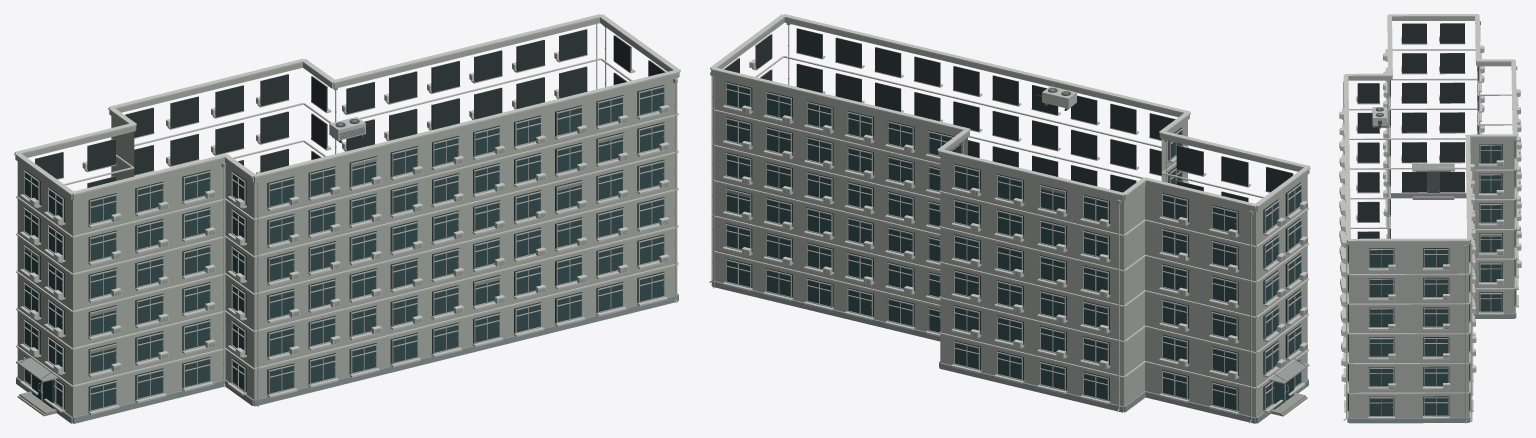
The model's file is osm_way_223859840.glb.
3 views of the same model, side by side, from view 1: azimuth 30°, elevation 25°; view 2: azimuth 150°, elevation 25°; view 3: azimuth 270°, elevation 25° (orthographic). The views are drawn at different scales.
Visible parts, largest first — view 1: Windows and facade details | 18, Architecture | 18, Roof services | 18, EXTERIOR::osm_way_223859840::rainwater and roof service deta, EXTERIOR::osm_way_223859840::inferred entry doors canopy and, EXTERIOR::osm_way_223859840::native pane seals and hardware; view 2: Architecture | 18, Windows and facade details | 18, Roof services | 18, EXTERIOR::osm_way_223859840::rainwater and roof service deta, EXTERIOR::osm_way_223859840::inferred entry doors canopy and; view 3: Windows and facade details | 18, Architecture | 18, Roof services | 18, EXTERIOR::osm_way_223859840::rainwater and roof service deta, EXTERIOR::osm_way_223859840::inferred entry doors canopy and.
Part boxes in pixels (x1,y1,x2,y2): Windows and facade details | 18: [20, 24, 669, 414]; Architecture | 18: [15, 18, 679, 423]; Roof services | 18: [14, 14, 680, 195]; EXTERIOR::osm_way_223859840::rainwater and roof service deta: [221, 25, 677, 387]; EXTERIOR::osm_way_223859840::inferred entry doors canopy and: [16, 355, 58, 416]; EXTERIOR::osm_way_223859840::native pane seals and hardware: [24, 98, 663, 397]; Architecture | 18: [711, 18, 1309, 423]; Windows and facade details | 18: [713, 28, 1307, 414]; Roof services | 18: [710, 14, 1310, 207]; EXTERIOR::osm_way_223859840::rainwater and roof service deta: [709, 23, 1253, 423]; EXTERIOR::osm_way_223859840::inferred entry doors canopy and: [1269, 358, 1309, 416]; Windows and facade details | 18: [1339, 23, 1521, 421]; Architecture | 18: [1347, 17, 1516, 423]; Roof services | 18: [1343, 14, 1517, 241]; EXTERIOR::osm_way_223859840::rainwater and roof service deta: [1343, 21, 1517, 423]; EXTERIOR::osm_way_223859840::inferred entry doors canopy and: [1412, 163, 1454, 199].
Bounding box in the file's own units: 54.02 × 20.58 × 17.8.
